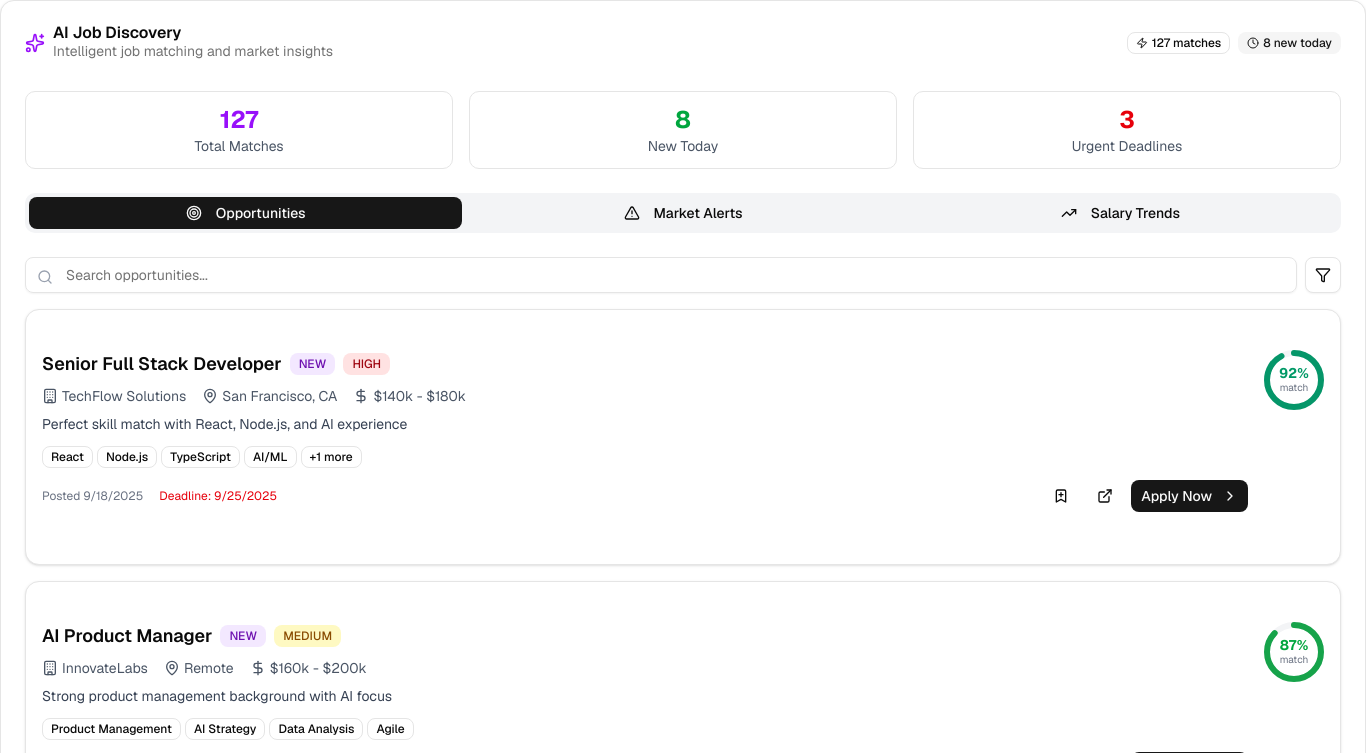
Scenario: AIJobDiscovery › should handle market alerts with different impact levels
Switch to market alerts tab
Step 1. Click the button "Market Alerts" → (683, 213), box [466, 197, 900, 229]
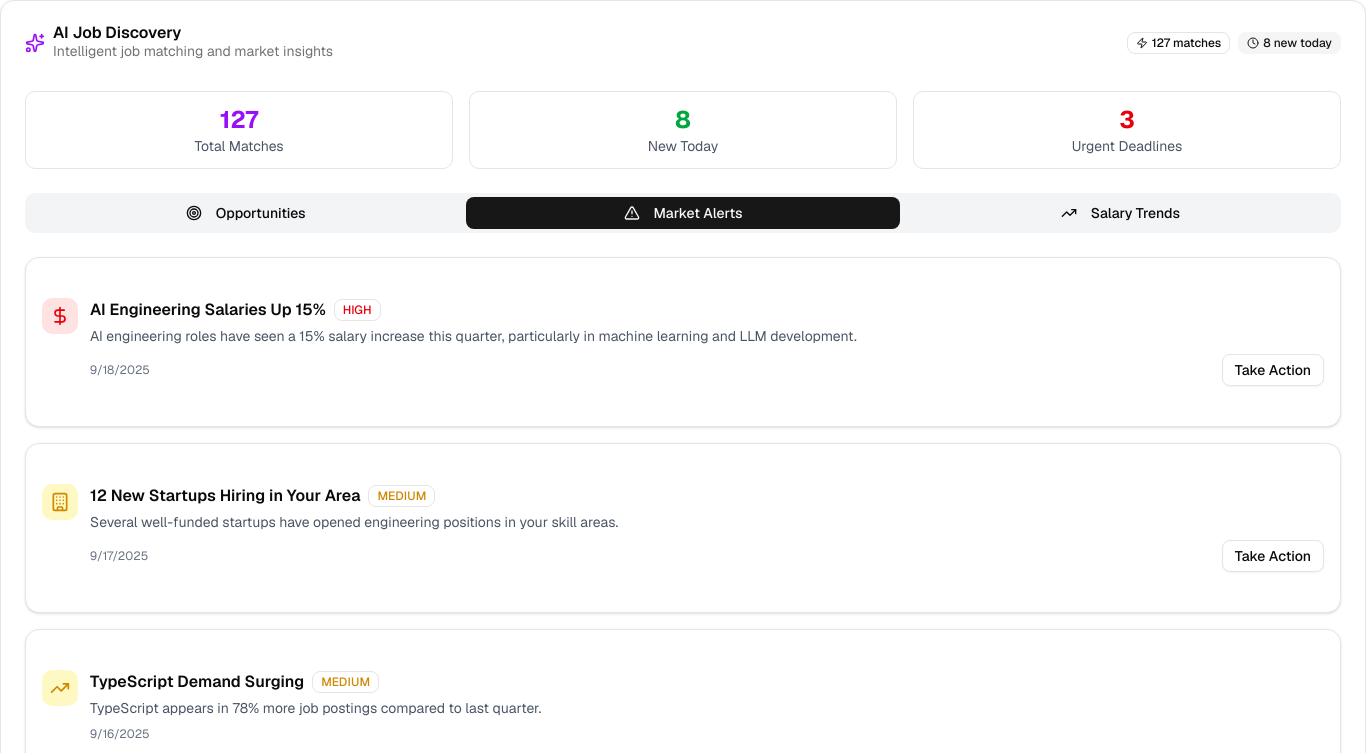
Check: the text "HIGH" is shown, box [334, 299, 380, 321]
Check: the text "MEDIUM" is shown 2 times, box [368, 485, 436, 507]; [312, 671, 379, 693]
